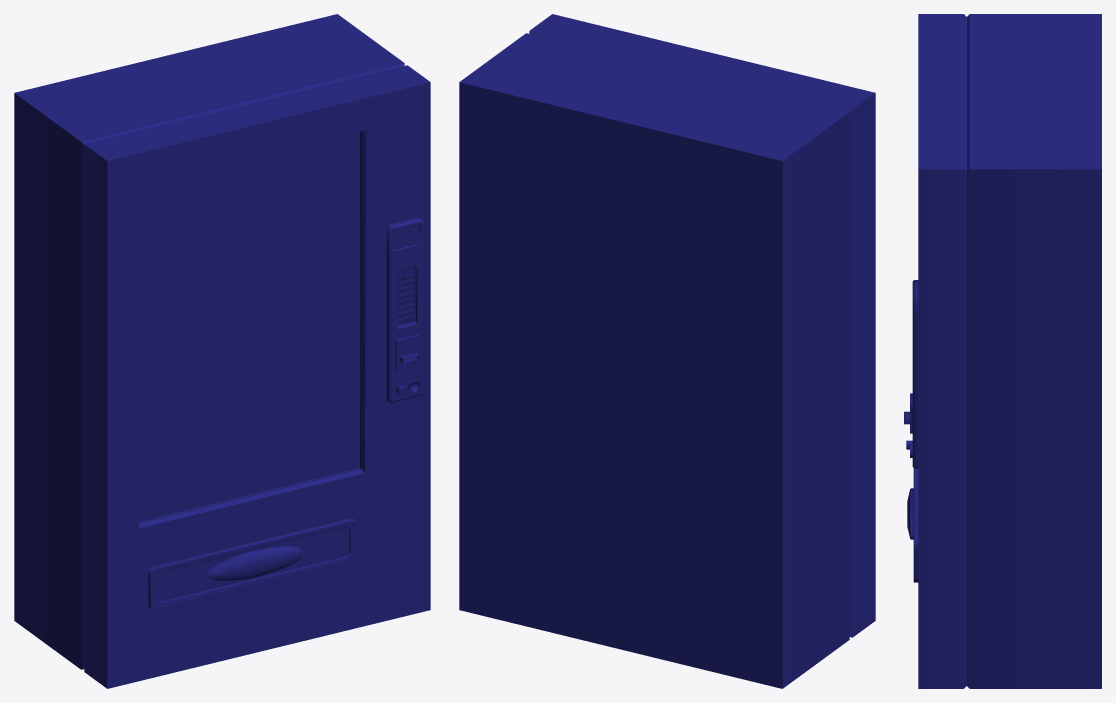
The model's file is vending_machine_v1.FBX.
The picture shows the model from 3 angles, left to right: view 1: azimuth 30°, elevation 25°; view 2: azimuth 150°, elevation 25°; view 3: azimuth 270°, elevation 25°; orthographic projection.
Visible parts, largest first — view 1: vending; view 2: vending; view 3: vending.
Part boxes in pixels (x1,y1,x2,y2): vending: (14, 14, 430, 688); vending: (459, 14, 875, 688); vending: (904, 14, 1101, 688).
Size of the model in its own units: 125 by 195 by 67.23.
